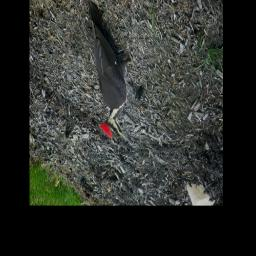Woodpecker: (84, 1, 137, 146)
